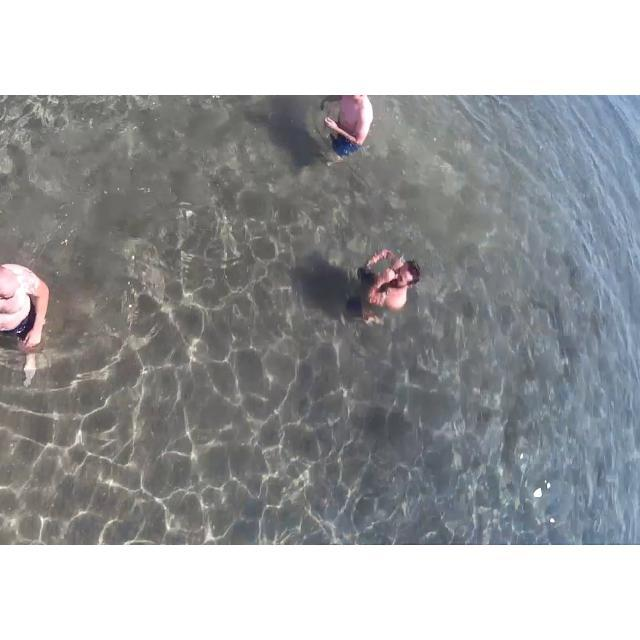human: (344, 225, 428, 328), (1, 245, 51, 394), (310, 95, 386, 166)
